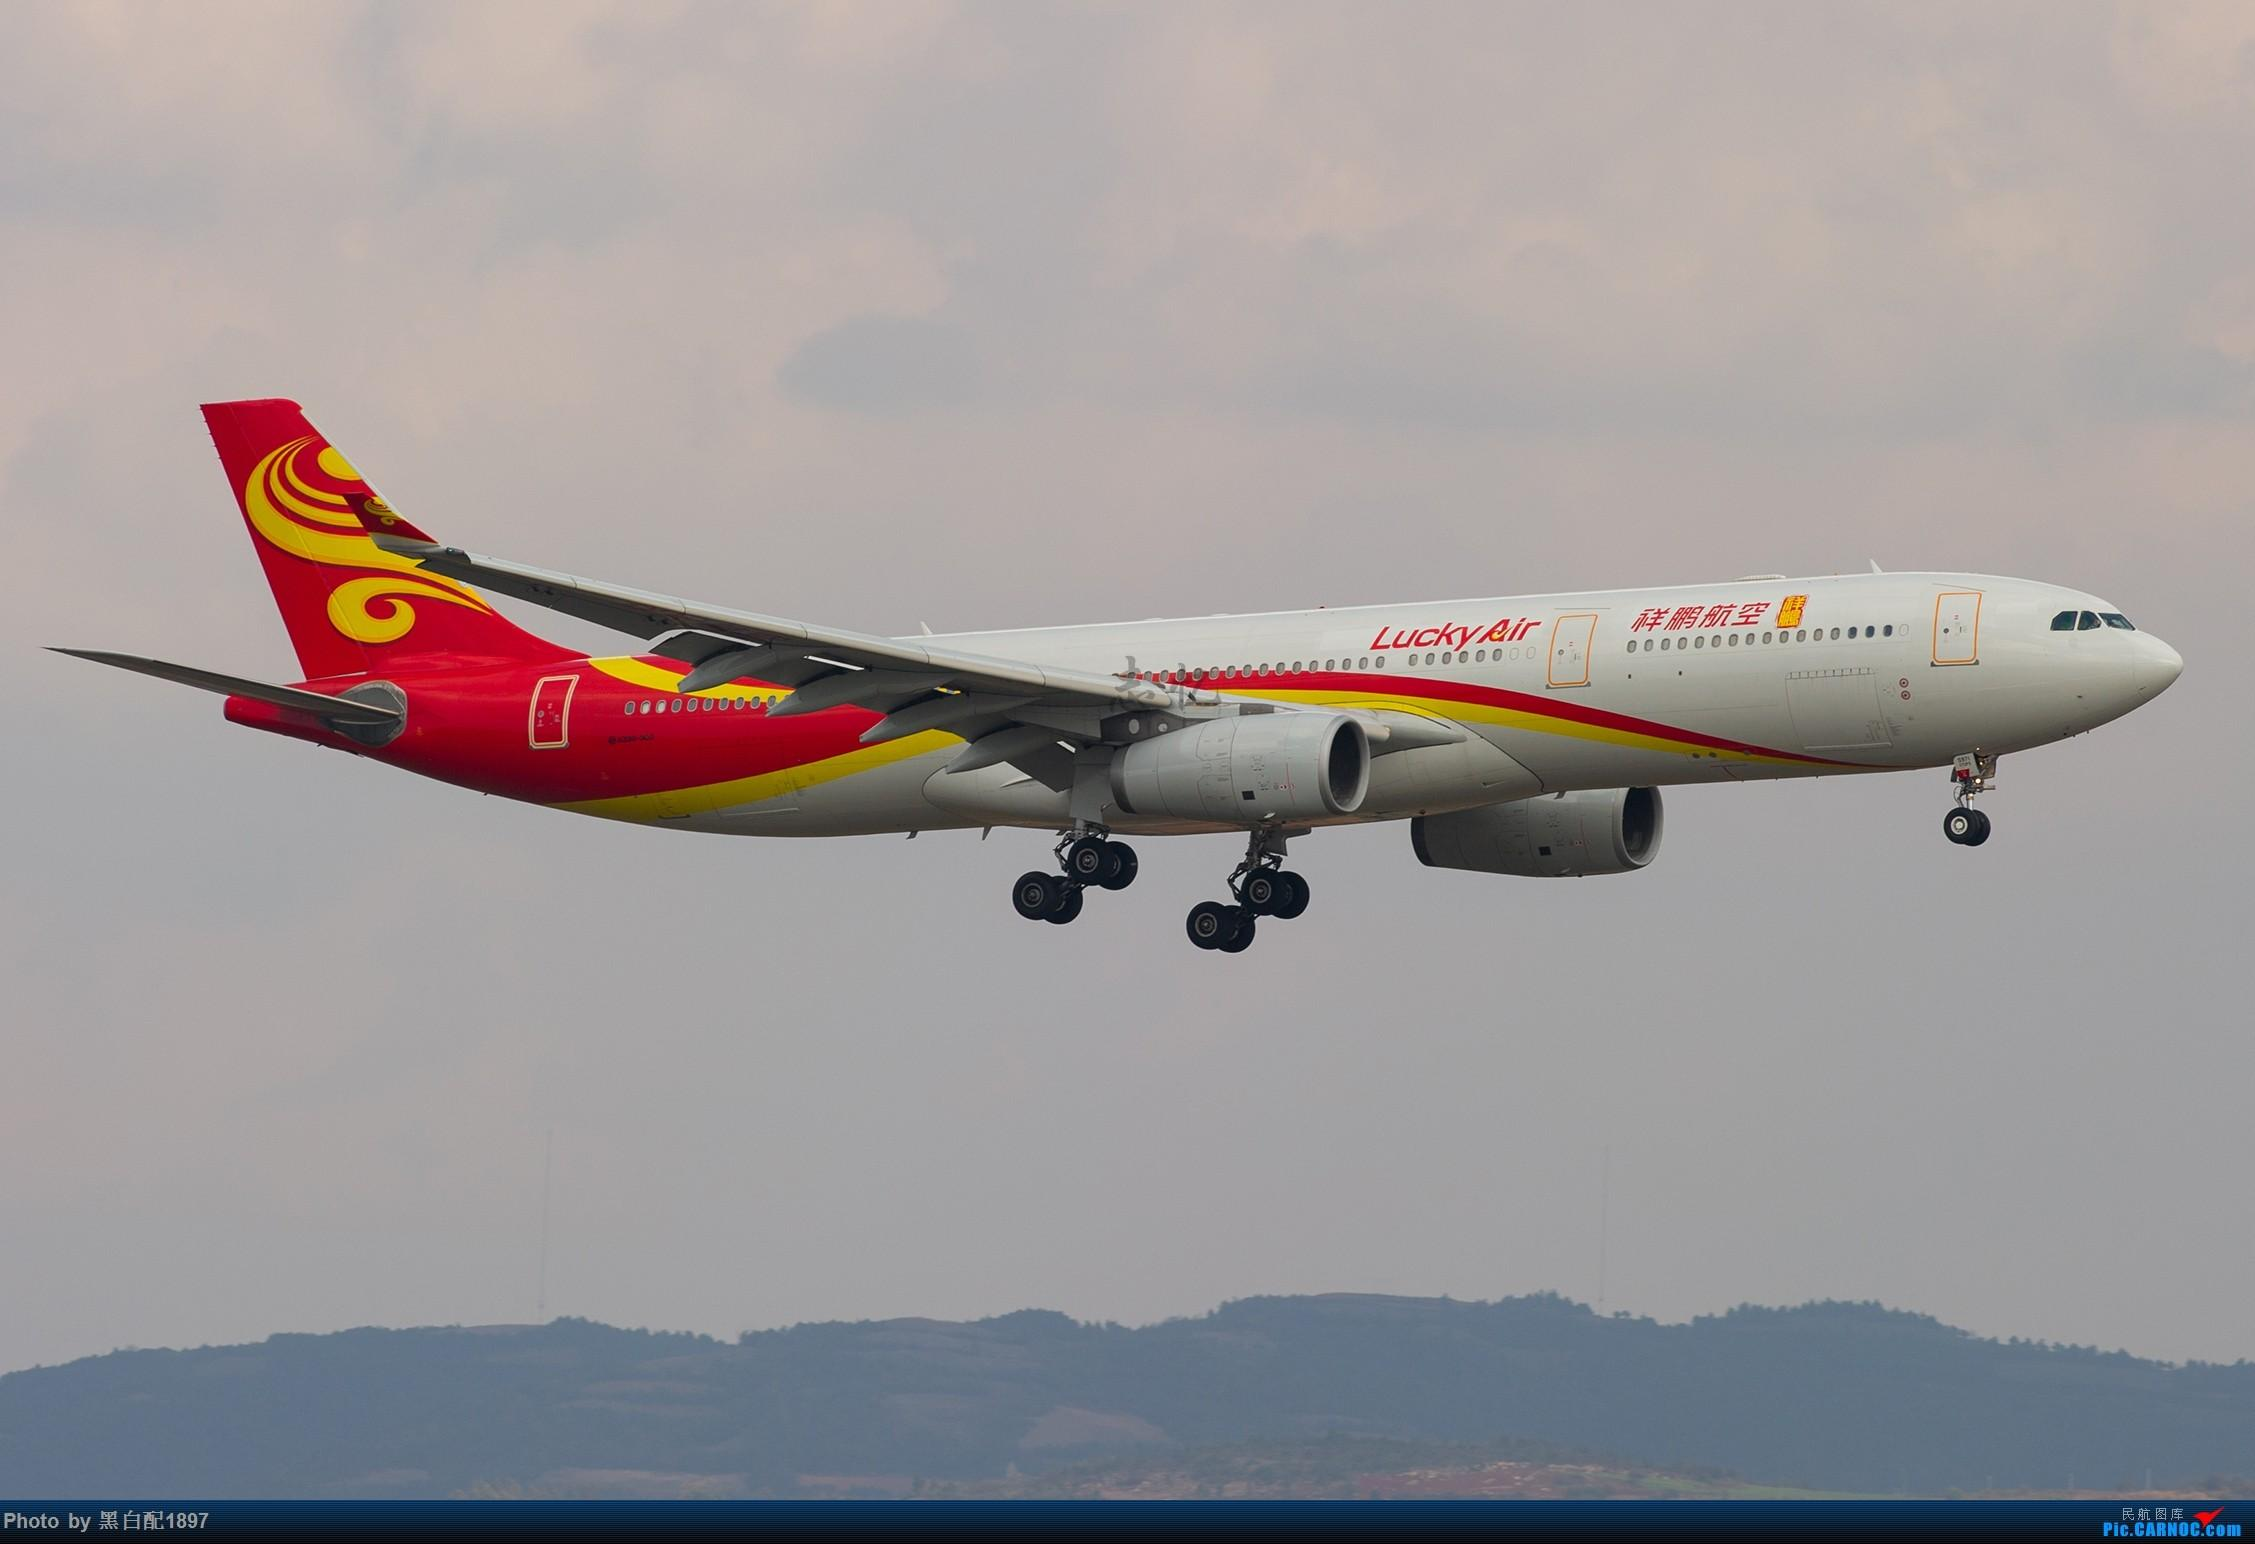airplane: (33, 355, 2198, 961)
